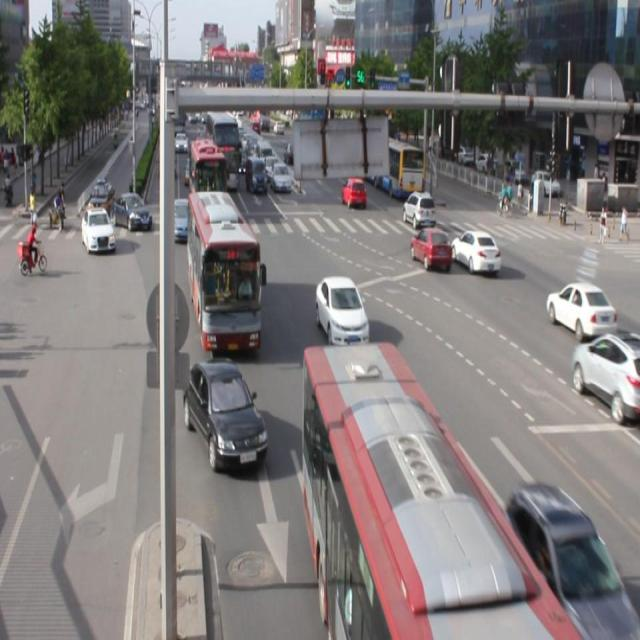car: (505, 479, 632, 640), (183, 354, 268, 470), (570, 330, 640, 421), (544, 280, 616, 336), (313, 272, 368, 342), (449, 227, 501, 271), (409, 224, 452, 267)
van: (303, 342, 579, 640), (189, 190, 262, 349)
